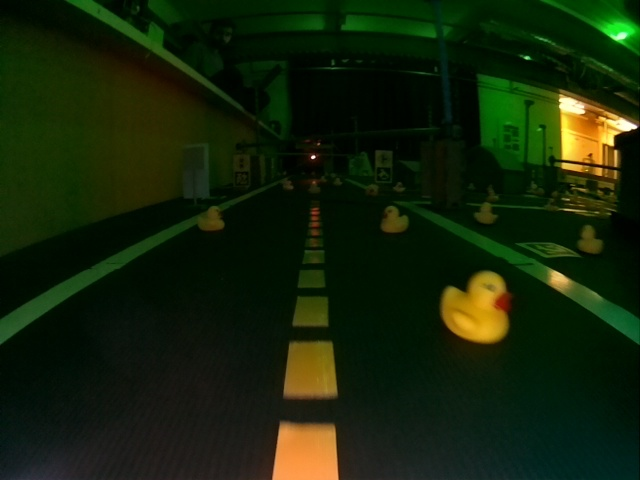Duckie: (442, 271, 510, 343), (382, 206, 407, 233), (198, 206, 224, 228), (578, 227, 600, 252), (473, 203, 498, 224)
QR code: (519, 242, 580, 259)
